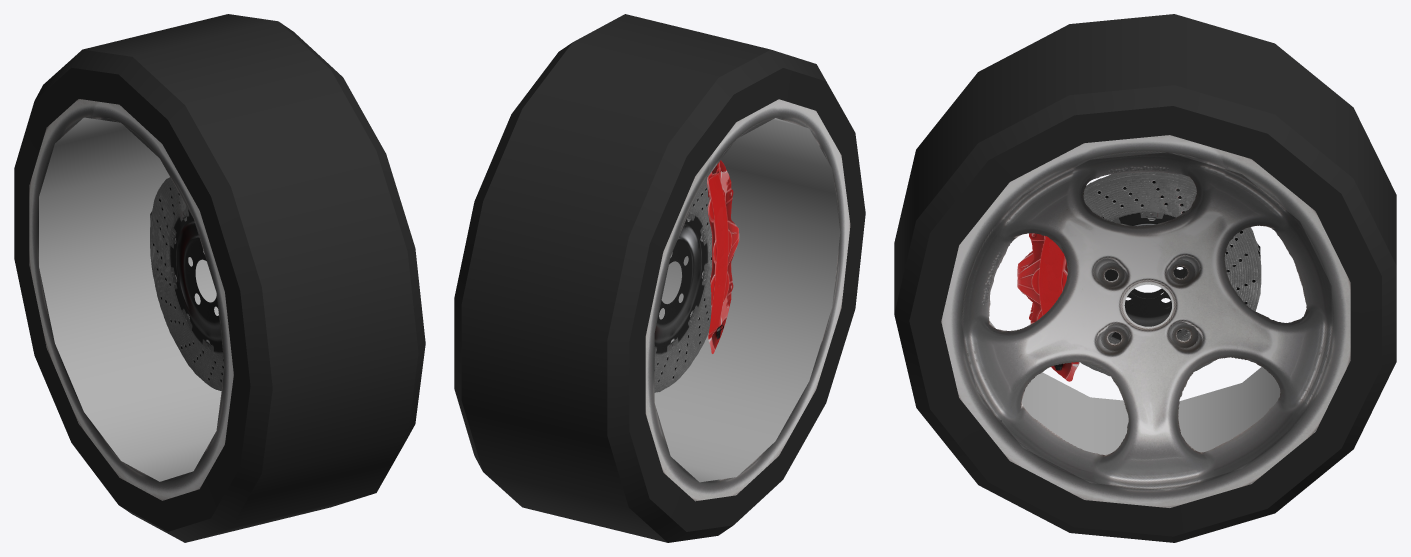
File: wheel.glb
The picture shows the model from 3 angles, left to right: view 1: azimuth 30°, elevation 25°; view 2: azimuth 150°, elevation 25°; view 3: azimuth 270°, elevation 25°; orthographic projection.
Size of the model in its own units: 0.9207 by 2.28 by 2.27.
Materials: 3 (1 with a texture image).
